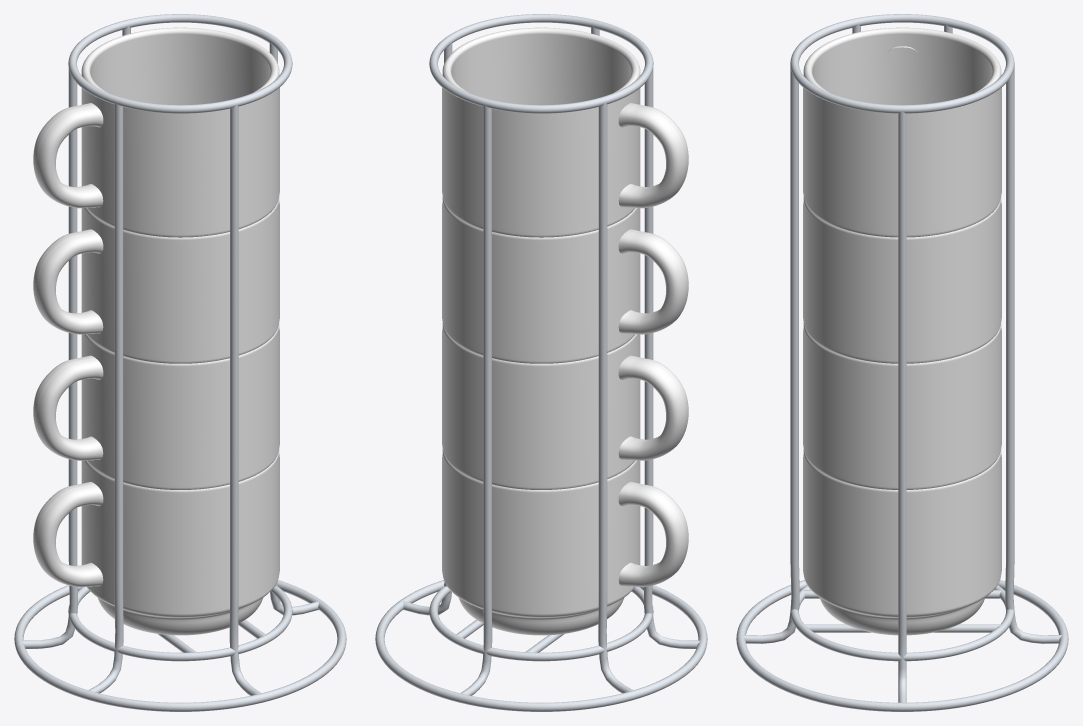
The model's file is kit_4_xicaras_180ml.glb.
3 renders of one model, left to right at view 1: azimuth 30°, elevation 25°; view 2: azimuth 150°, elevation 25°; view 3: azimuth 270°, elevation 25°, orthographic.
Parts seen in each view (by area): view 1: Area_Arte_3, Area_Arte_4, Area_Arte_2, Area_Arte_1, Interior_Xicara_1, Corpo_Xicara_4, Corpo_Xicara_2, Corpo_Xicara_3, Corpo_Xicara_1, Haste_Vertical_4, Haste_Vertical_1, Anel_Base_Externo (+8 smaller); view 2: Area_Arte_3, Area_Arte_4, Area_Arte_2, Area_Arte_1, Interior_Xicara_1, Corpo_Xicara_4, Corpo_Xicara_2, Corpo_Xicara_3, Corpo_Xicara_1, Haste_Vertical_5, Haste_Vertical_3, Anel_Base_Externo (+8 smaller); view 3: Area_Arte_3, Area_Arte_4, Area_Arte_2, Area_Arte_1, Interior_Xicara_1, Haste_Vertical_1, Haste_Vertical_3, Anel_Base_Externo, Haste_Vertical_2, Corpo_Xicara_4, Anel_Superior, Anel_Inferior_Interno (+4 smaller).
Part boxes in pixels (x1,y1,x2,y2): Area_Arte_3: (140, 329, 279, 485); Area_Arte_4: (140, 455, 279, 611); Area_Arte_2: (140, 202, 279, 358); Area_Arte_1: (140, 87, 279, 232); Interior_Xicara_1: (85, 27, 275, 104); Corpo_Xicara_4: (81, 449, 279, 635); Corpo_Xicara_2: (81, 197, 279, 363); Corpo_Xicara_3: (81, 323, 279, 489); Corpo_Xicara_1: (81, 27, 279, 237); Haste_Vertical_4: (89, 102, 123, 693); Haste_Vertical_1: (229, 105, 260, 695); Anel_Base_Externo: (14, 580, 346, 711); Area_Arte_3: (442, 329, 581, 485); Area_Arte_4: (442, 455, 581, 611); Area_Arte_2: (442, 202, 581, 358); Area_Arte_1: (442, 87, 581, 232); Interior_Xicara_1: (446, 27, 636, 104); Corpo_Xicara_4: (442, 449, 640, 635); Corpo_Xicara_2: (442, 197, 640, 363); Corpo_Xicara_3: (442, 323, 640, 489); Corpo_Xicara_1: (442, 27, 640, 237); Haste_Vertical_5: (598, 102, 632, 693); Haste_Vertical_3: (461, 105, 492, 695); Anel_Base_Externo: (375, 580, 707, 711); Area_Arte_3: (803, 328, 1001, 485); Area_Arte_4: (803, 455, 1001, 611); Area_Arte_2: (803, 202, 1001, 358); Area_Arte_1: (803, 87, 1001, 232); Interior_Xicara_1: (807, 27, 997, 104); Haste_Vertical_1: (743, 65, 799, 643); Haste_Vertical_3: (1005, 65, 1061, 643); Anel_Base_Externo: (736, 580, 1068, 711); Haste_Vertical_2: (898, 111, 906, 702); Corpo_Xicara_4: (803, 449, 1001, 635); Anel_Superior: (790, 14, 1014, 113); Anel_Inferior_Interno: (790, 585, 1014, 661).
Size of the model in its own units: 0.1276 by 0.2472 by 0.1276.
7 materials, 4 textured.
